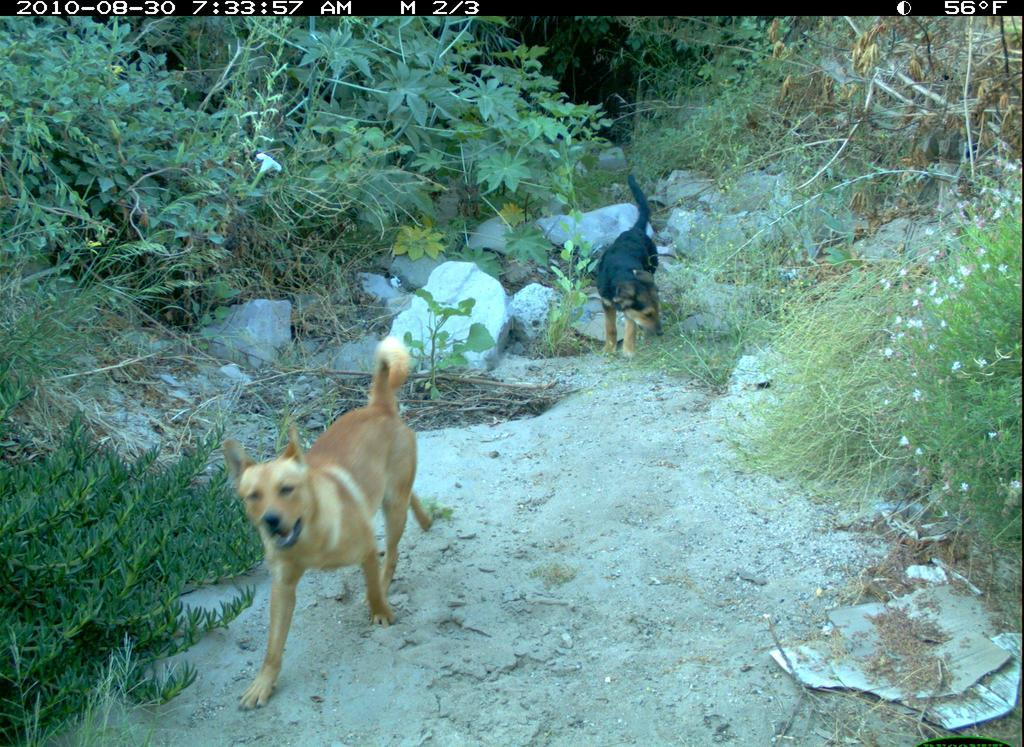dog: (203, 333, 443, 710), (575, 175, 687, 373)
